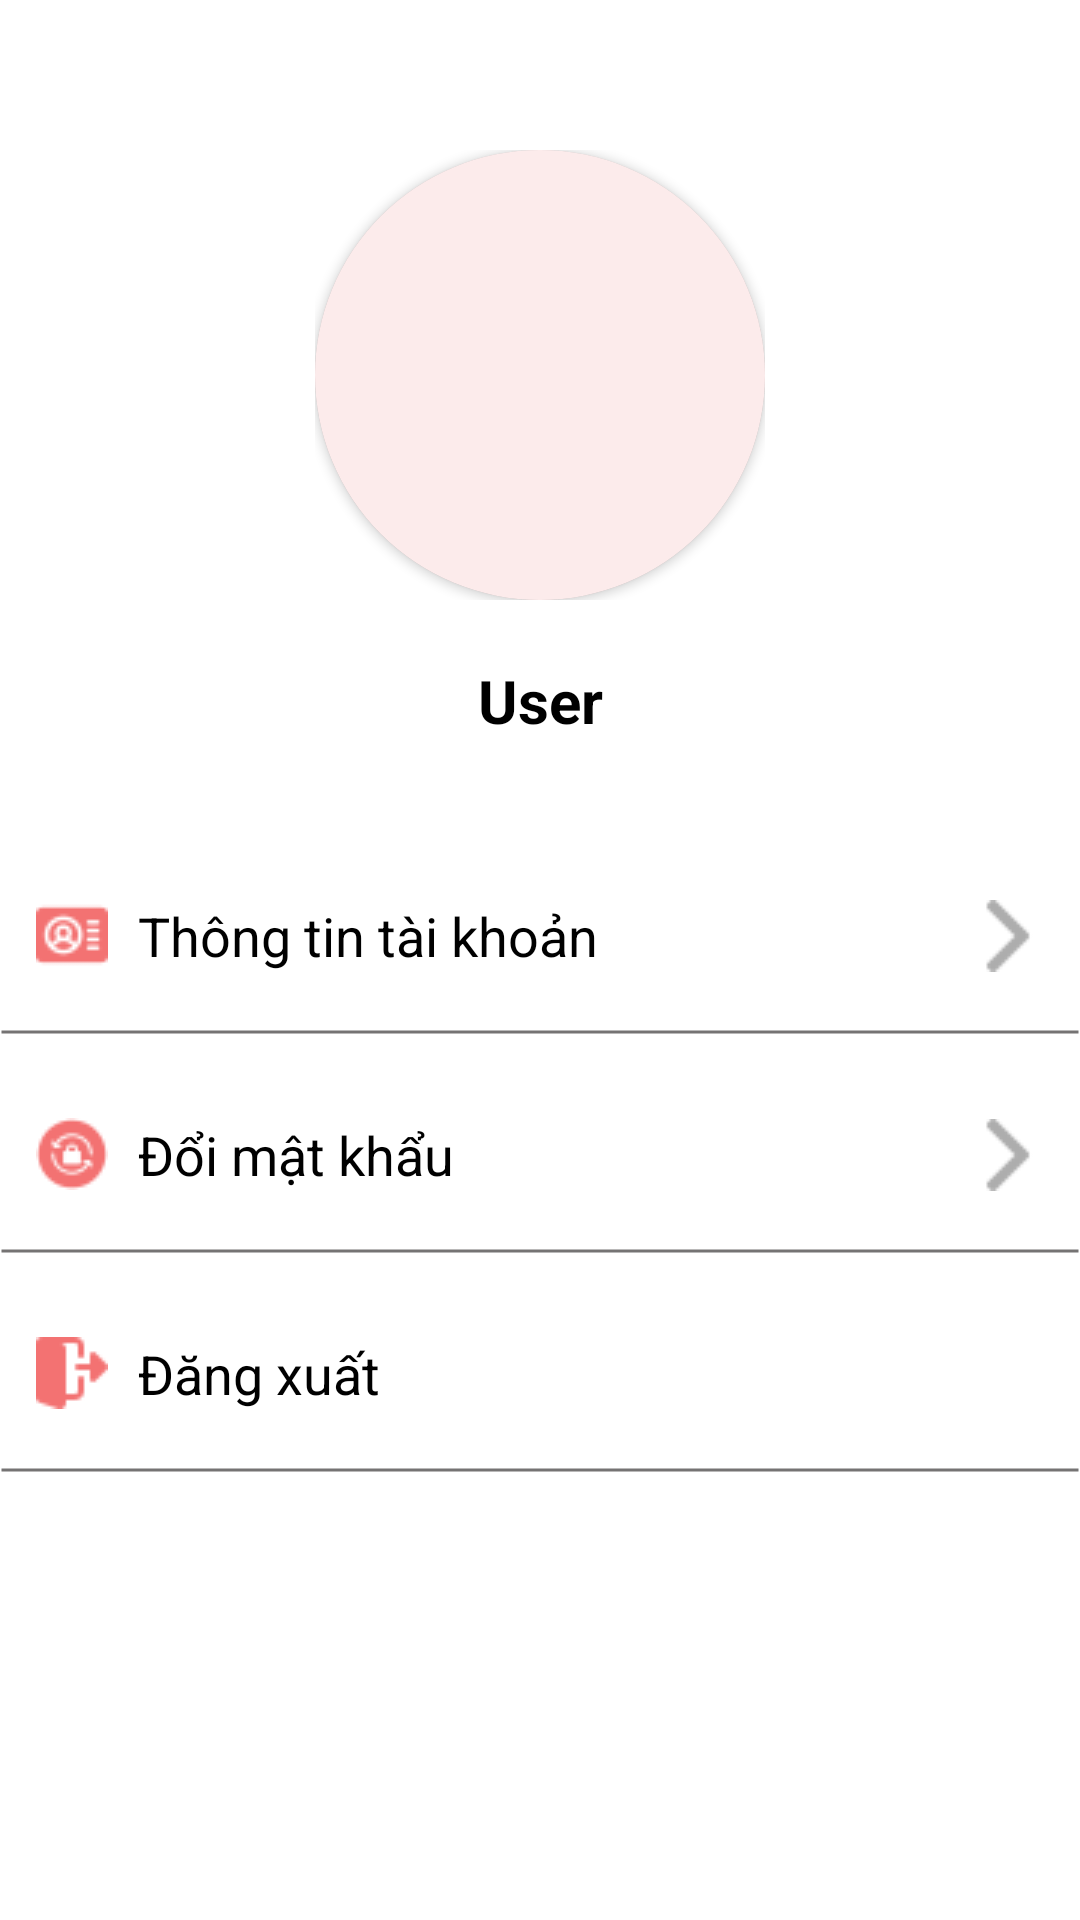

Where icons sit on this 1080 x 1920 app screen, as (x1, y1, x2, y2):
right arrow: (986, 900, 1030, 972), (986, 1119, 1030, 1191)
